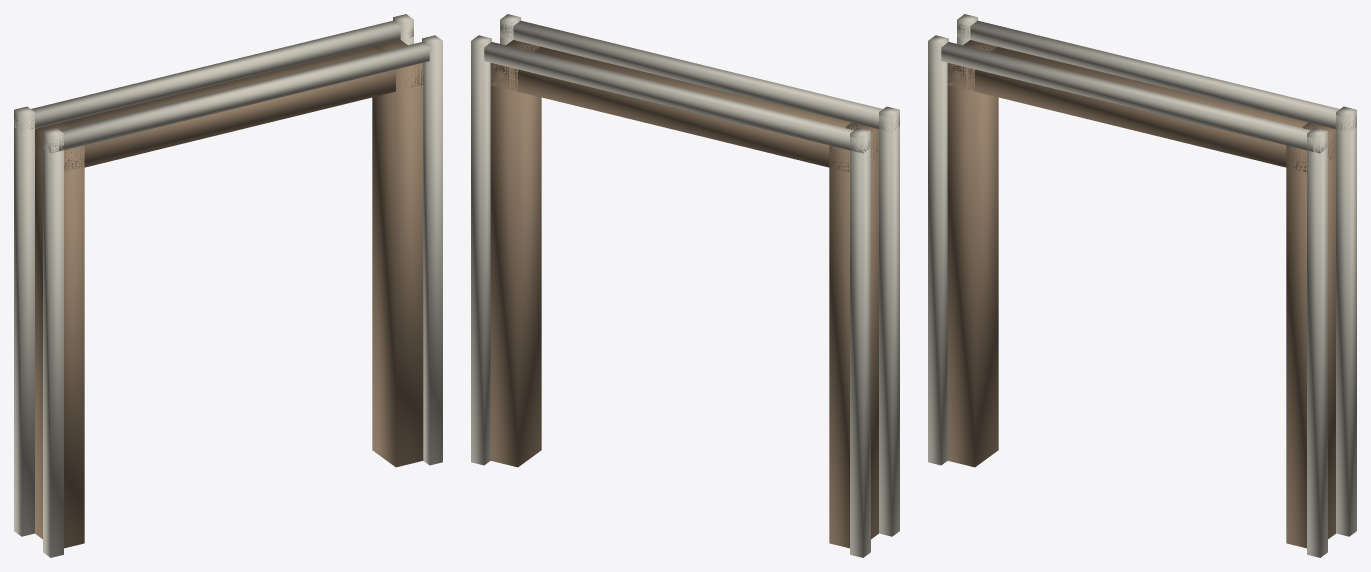
Rendered from doorway_painted_trim_w182_h210_d24.glb.
The picture shows the model from 3 angles, left to right: view 1: azimuth 30°, elevation 25°; view 2: azimuth 150°, elevation 25°; view 3: azimuth 330°, elevation 25°; orthographic projection.
Parts seen in each view (by area): view 1: world; view 2: world; view 3: world.
Part boxes in pixels (bbox=[...]): world: bbox=[14, 14, 442, 557]; world: bbox=[471, 14, 899, 557]; world: bbox=[928, 14, 1356, 557].
Bounding box in the file's own units: 2.29 × 2.36 × 0.3706.
